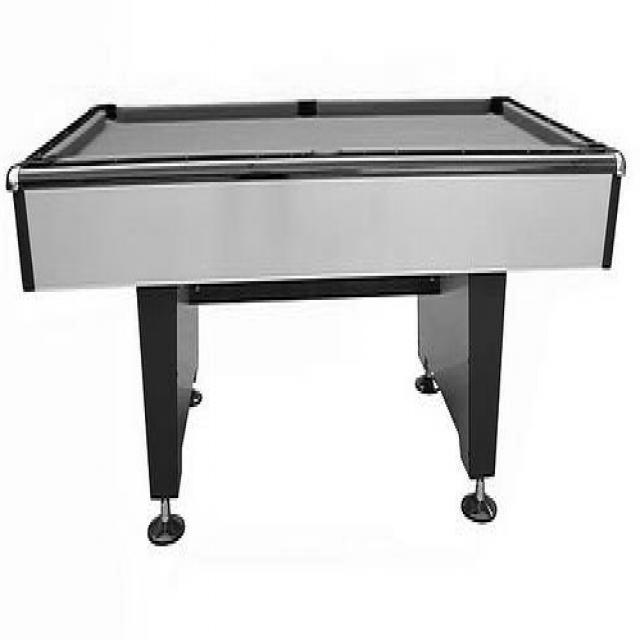table: (6, 92, 626, 548)
